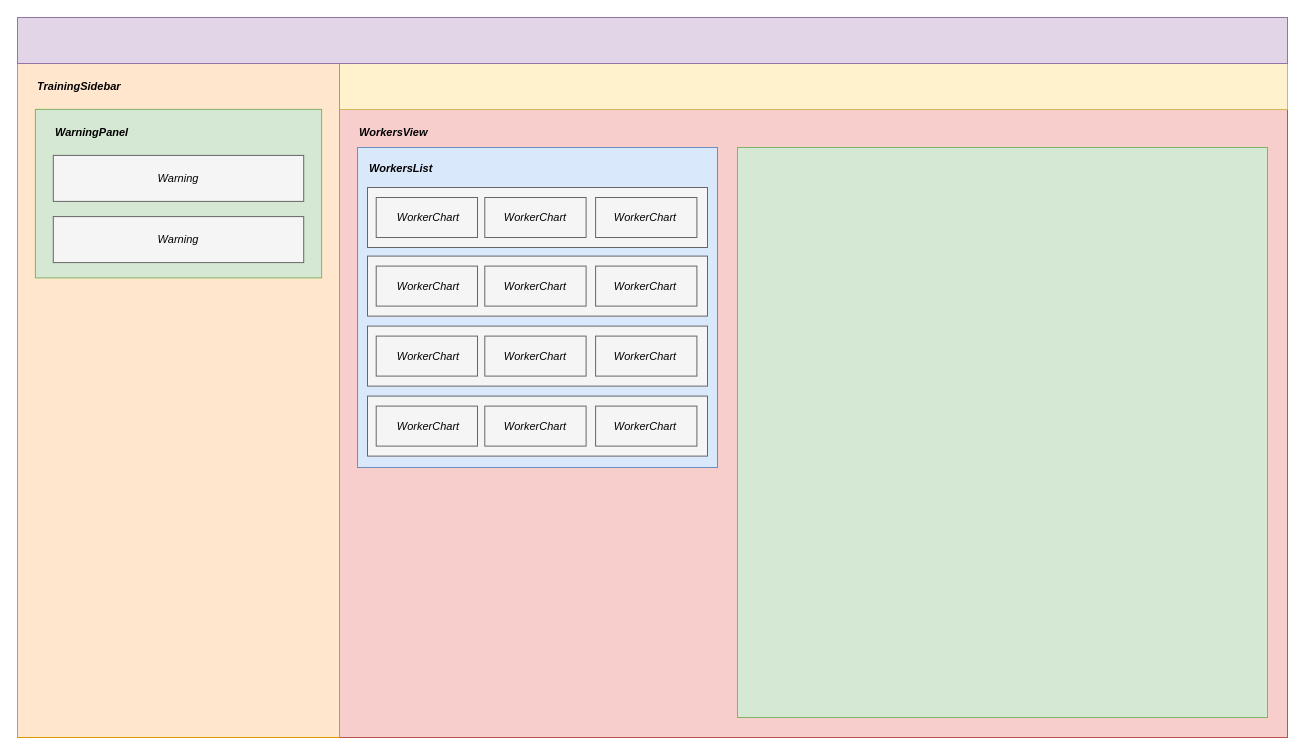
The diagram is 1305 pixels wide and 755 high, and some of its shapes have lost their labels. The shapes that lost their labels are listed below. From the top down, each one's box as (x1, y1, x2, y2) in pixels, then its label:
(16, 16, 1288, 64): TrainingTopbar
(338, 62, 1288, 110): TrainingHeader
(736, 146, 1268, 718): WorkersMap
